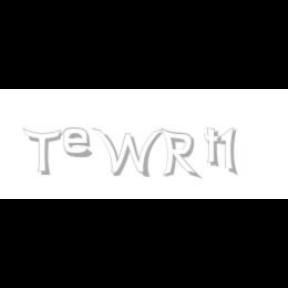1: (216, 128, 238, 176)
R: (160, 128, 198, 180)
T: (22, 128, 62, 176)
W: (91, 128, 163, 178)
e: (64, 128, 97, 158)
t: (204, 128, 226, 168)
